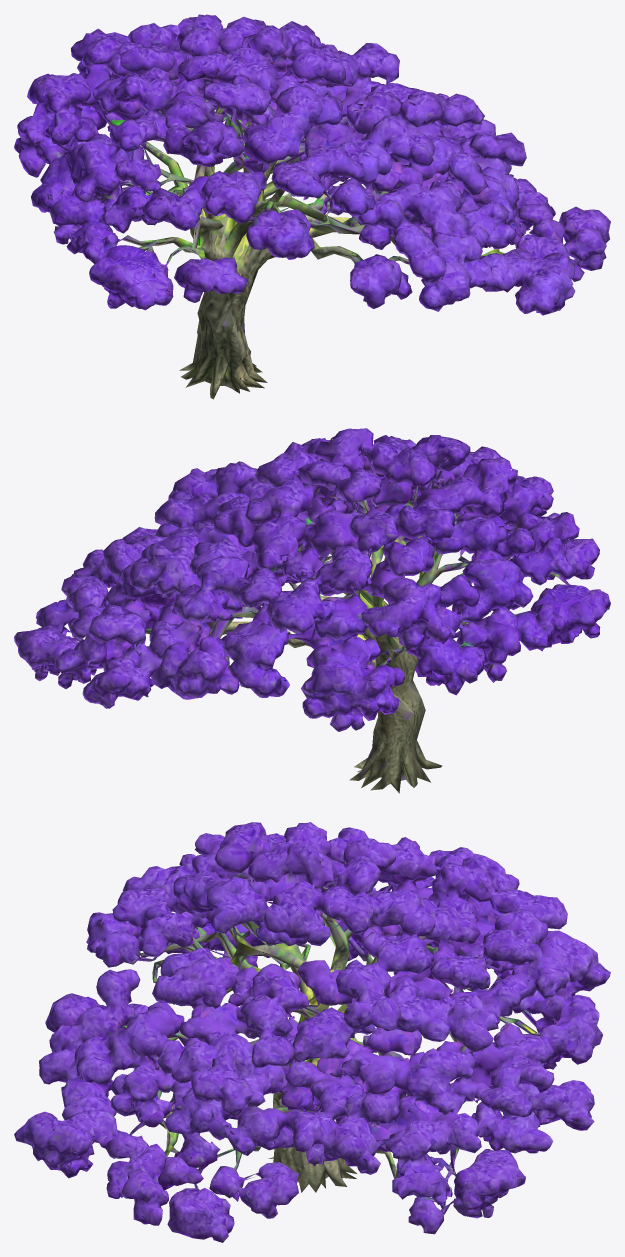
Rendered from JacarandaTree_Left.fbx.
3 views of the same model, one above another, from view 1: azimuth 30°, elevation 25°; view 2: azimuth 150°, elevation 25°; view 3: azimuth 270°, elevation 25° (orthographic). The views are drawn at different scales.
Visible parts, largest first — view 1: mesh_node; view 2: mesh_node; view 3: mesh_node.
Boxes of the visible parts, left/top/right/bottom form: mesh_node: left=14, top=14, right=610, bottom=399; mesh_node: left=14, top=428, right=610, bottom=793; mesh_node: left=14, top=822, right=610, bottom=1242.
Bounding box in the file's own units: 13.87 × 9 × 13.84.
1 material, 1 textured.
